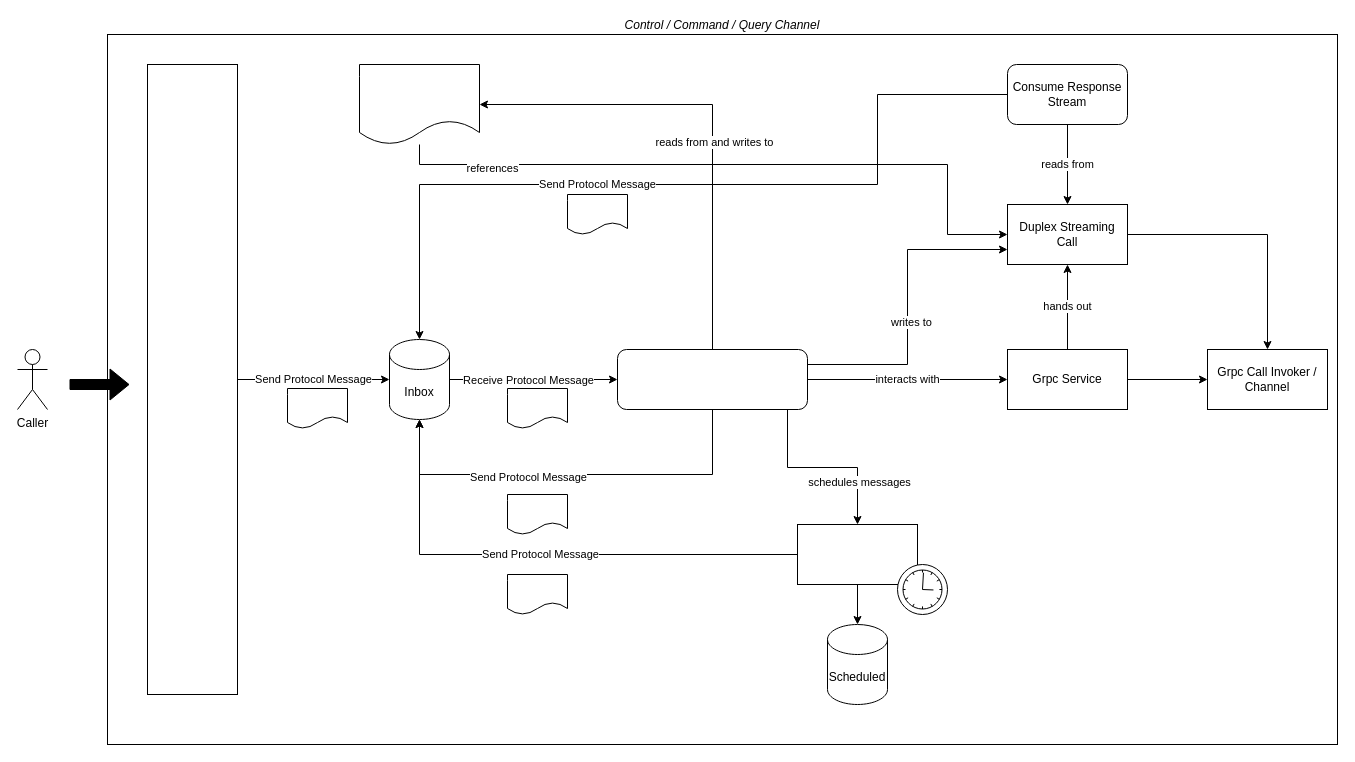
Some shapes in this 1355 by 762 pixel diagram are drawn without their labels. Here are the shapes that lost their labels. From the top down, the box of each, then its label:
(358, 64, 480, 144): (Current) State
(146, 64, 238, 694): Public API / Interface
(616, 348, 808, 410): Run Protocol (Single Reader)
(796, 524, 918, 584): Scheduler
